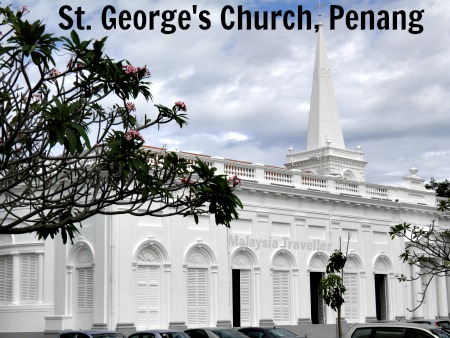Church: (21, 24, 423, 321)
